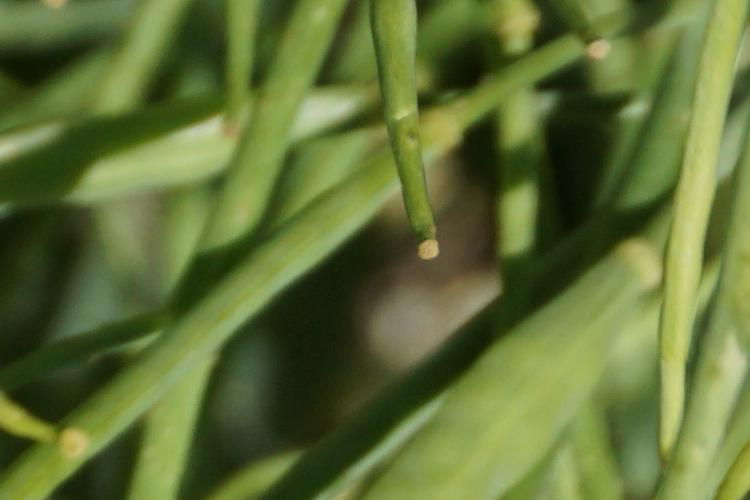pod: (376, 15, 453, 278)
